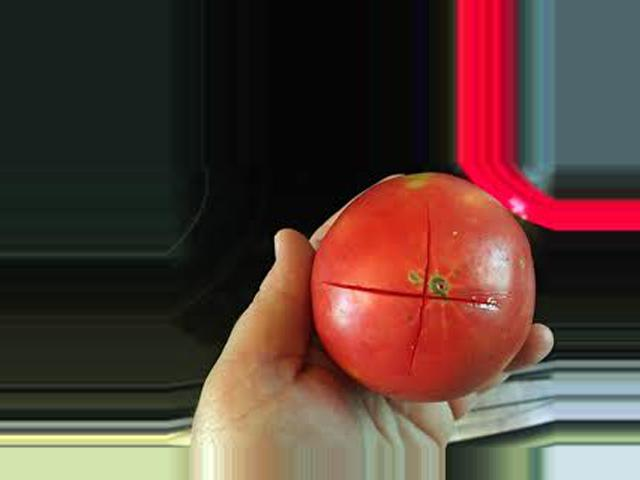tomato: (309, 173, 537, 403)
